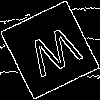W: (25, 25, 89, 87)
